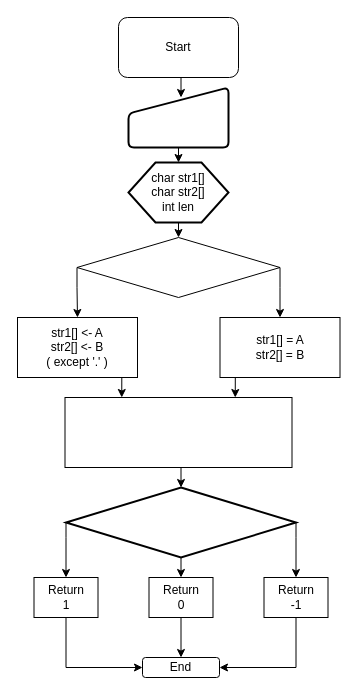
Image size: 358x695. Some labels were removed from this diagram. The centre of each missing label's shape, as x and y in pixels:
Chang Lower Case to Upper Case => str1[], str2[]: [178,432]
char * A char * B: [178,117]
Compare str1[], str2[]: [180,522]
First value of A, B == '.' ?: [178,267]
